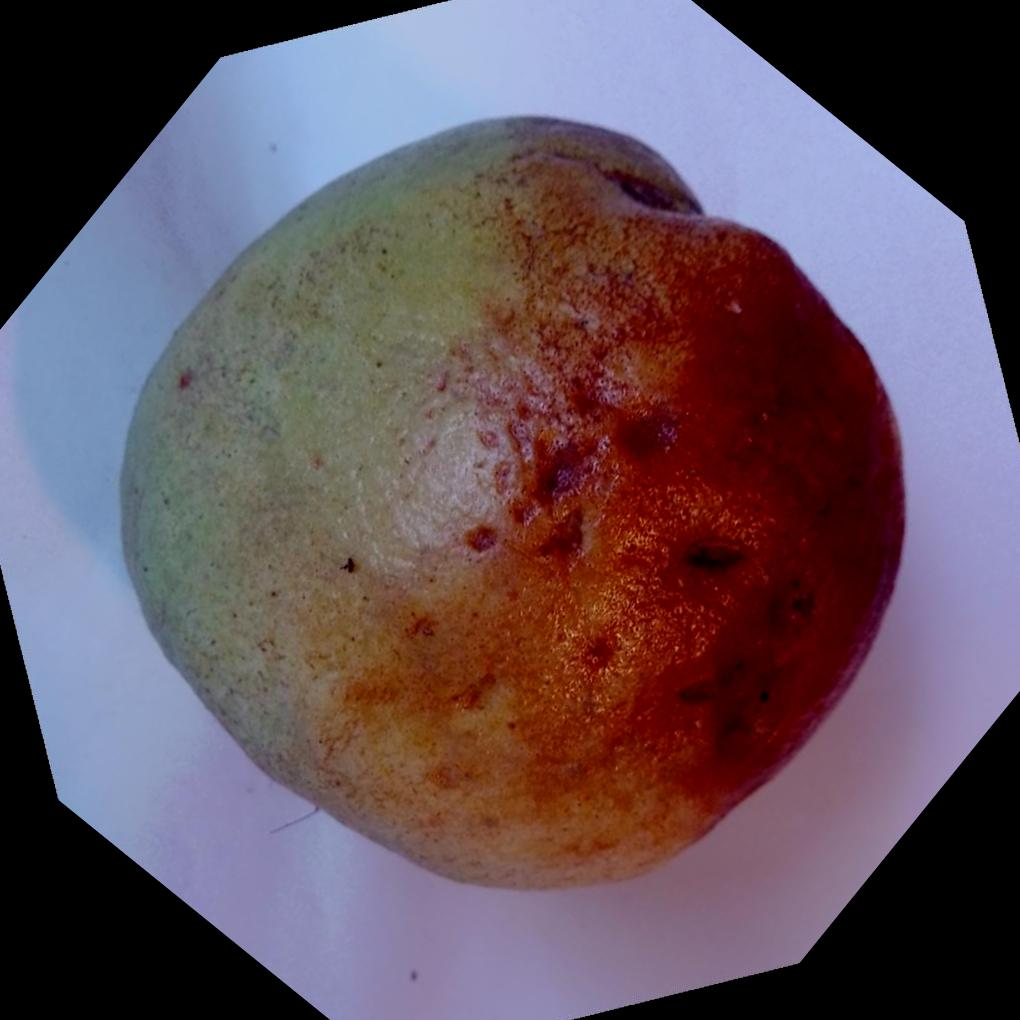FreshOrange: (112, 115, 908, 897)
